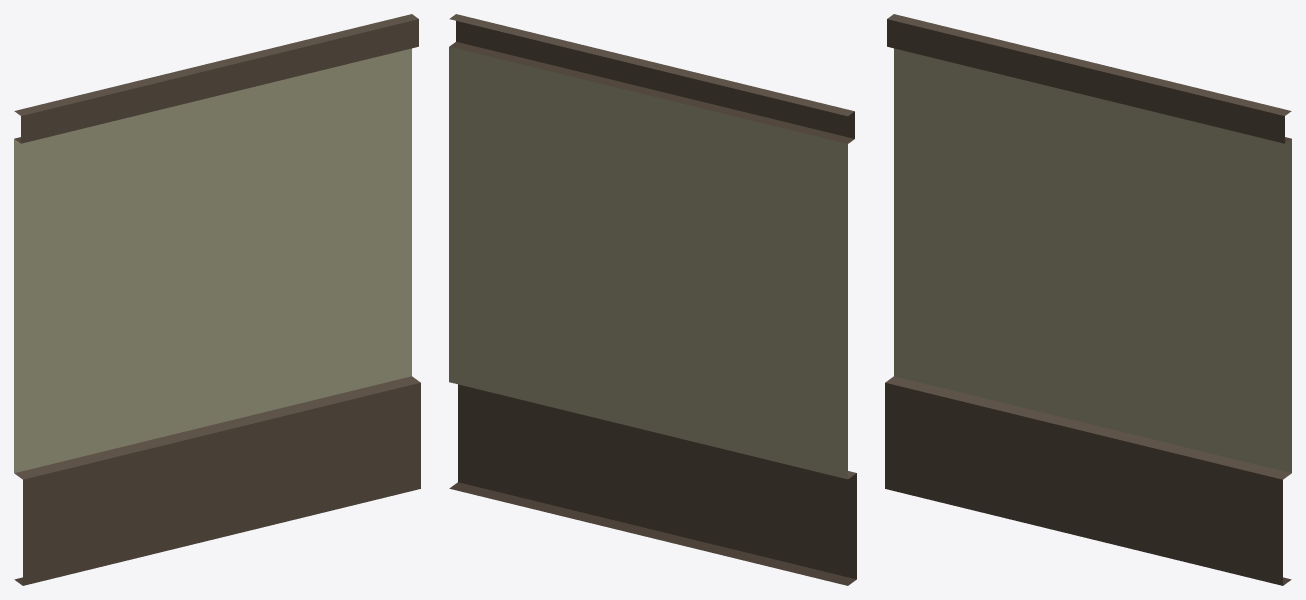
File: AI_Env_Wall_Bar_Blank.fbx
3 views of the same model, side by side, from view 1: azimuth 30°, elevation 25°; view 2: azimuth 150°, elevation 25°; view 3: azimuth 330°, elevation 25° (orthographic).
Parts seen in each view (by area): view 1: AI_Env_Wall_Bar_Blank; view 2: AI_Env_Wall_Bar_Blank; view 3: AI_Env_Wall_Bar_Blank.
Part boxes in pixels (<box>): AI_Env_Wall_Bar_Blank: <box>14,14,420,585</box>; AI_Env_Wall_Bar_Blank: <box>449,14,856,585</box>; AI_Env_Wall_Bar_Blank: <box>885,14,1291,585</box>.
Size of the model in its own units: 5 by 5.62 by 0.1921.
